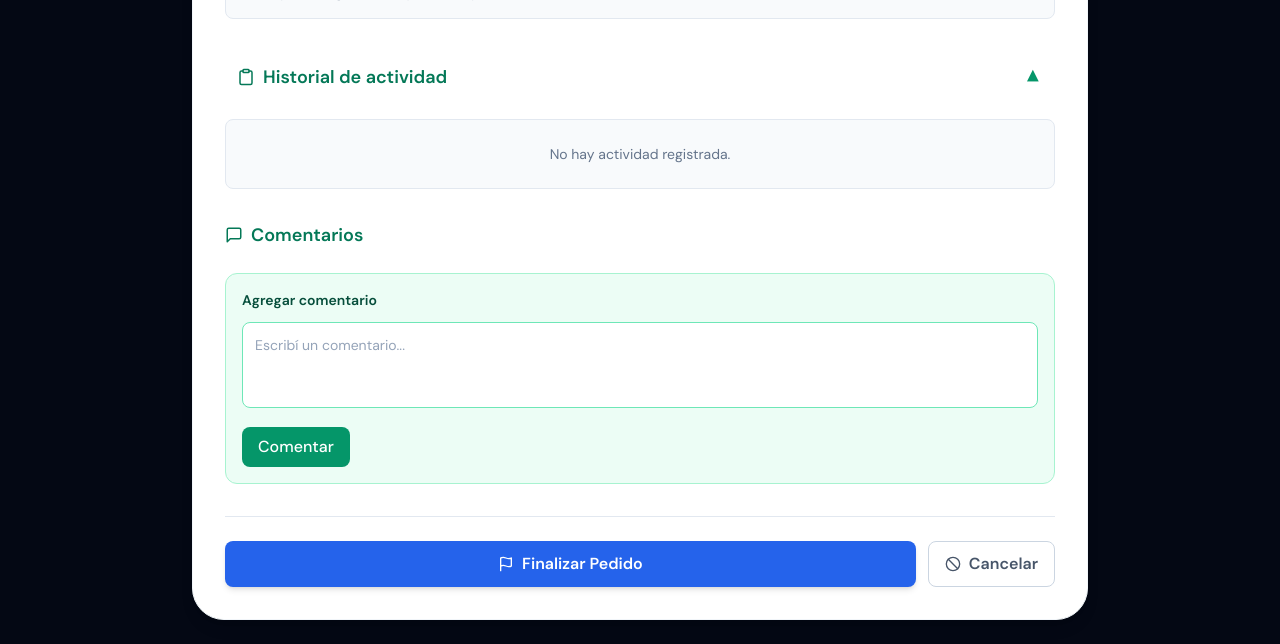
Test: PedidoDetalle — finalización con consumos[] › mapea el error de validación de Joi al input del item
This screenshot has width=1280, height=644.
(page scrolled)
Click the button "Finalizar Pedido" at (570, 564), box [225,541,916,587]
(page scrolled)
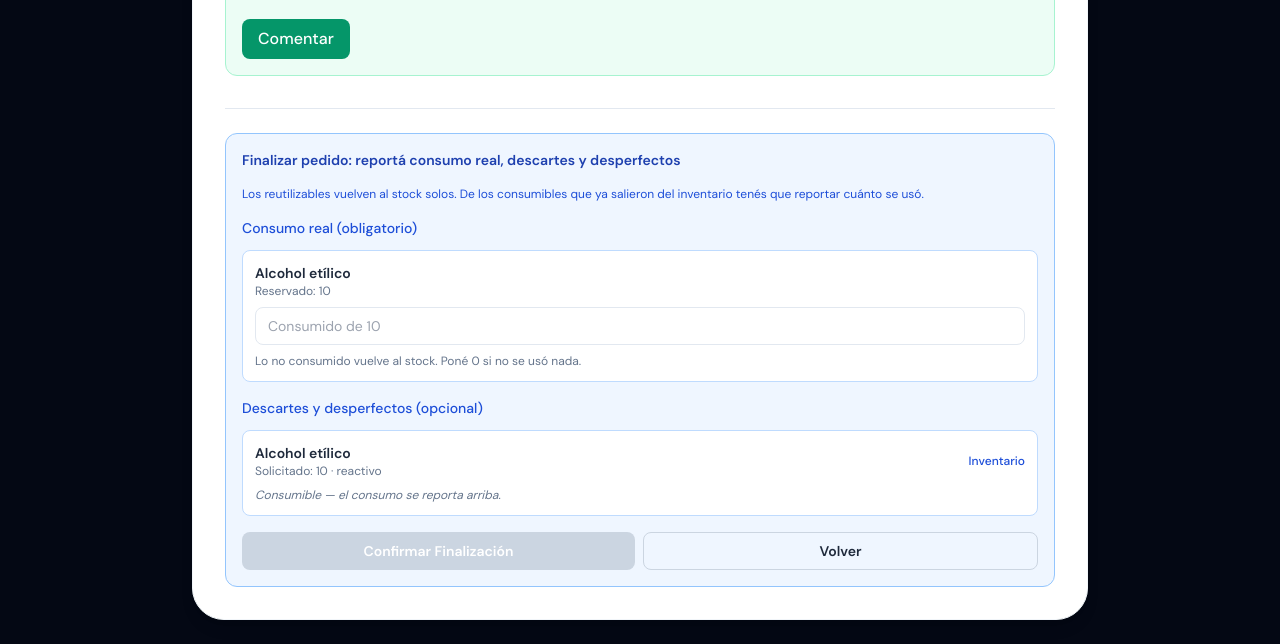
Type "4" into the number field named "Cantidad consumida de Alcohol etílico" at (640, 326), box [255,307,1025,345]
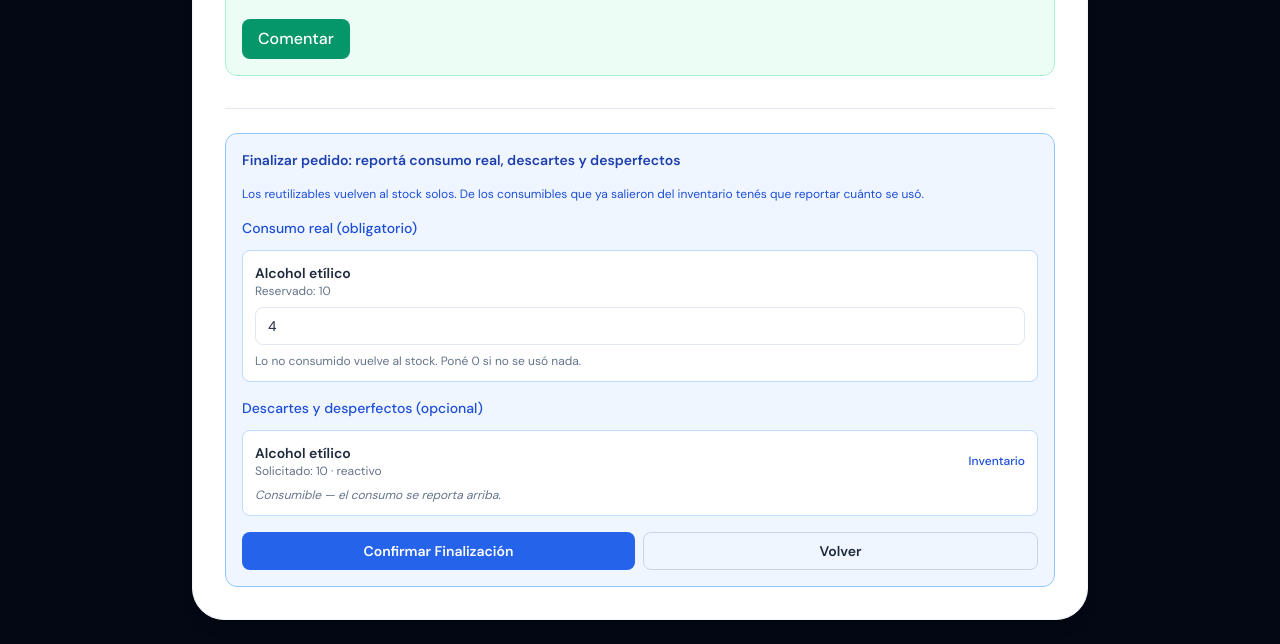
Click the button "Confirmar Finalización" at (438, 551), box [242,532,635,570]
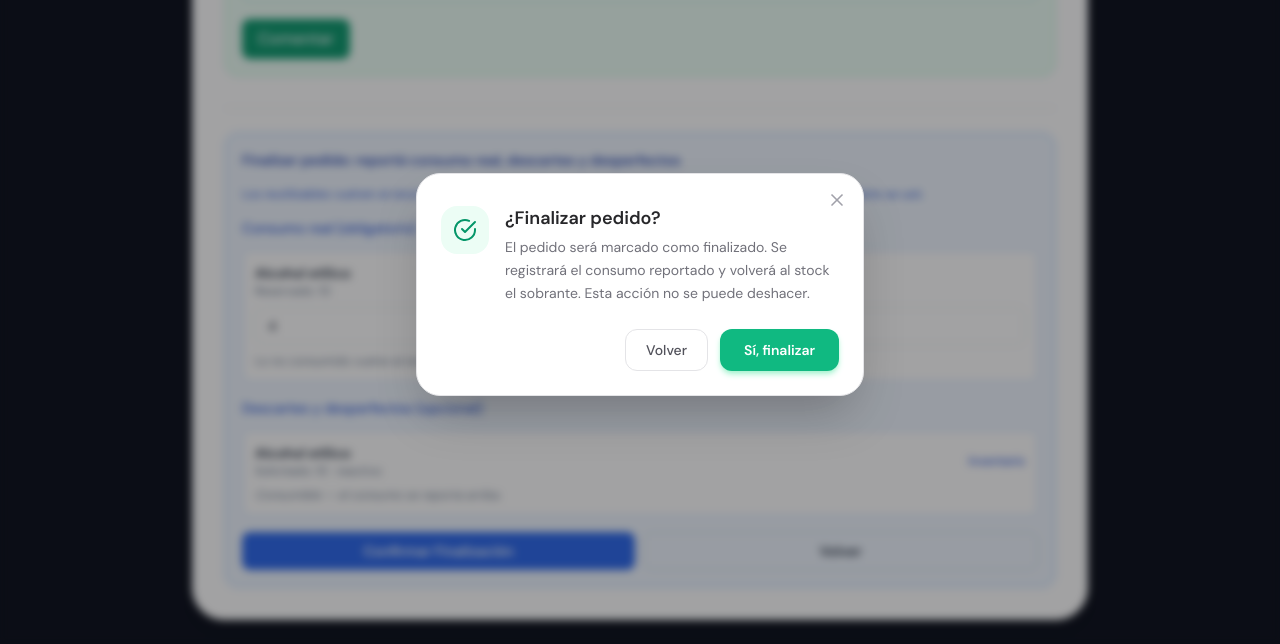
Click the button "Sí, finalizar" at (780, 350), box [720,328,839,370]
(page scrolled)
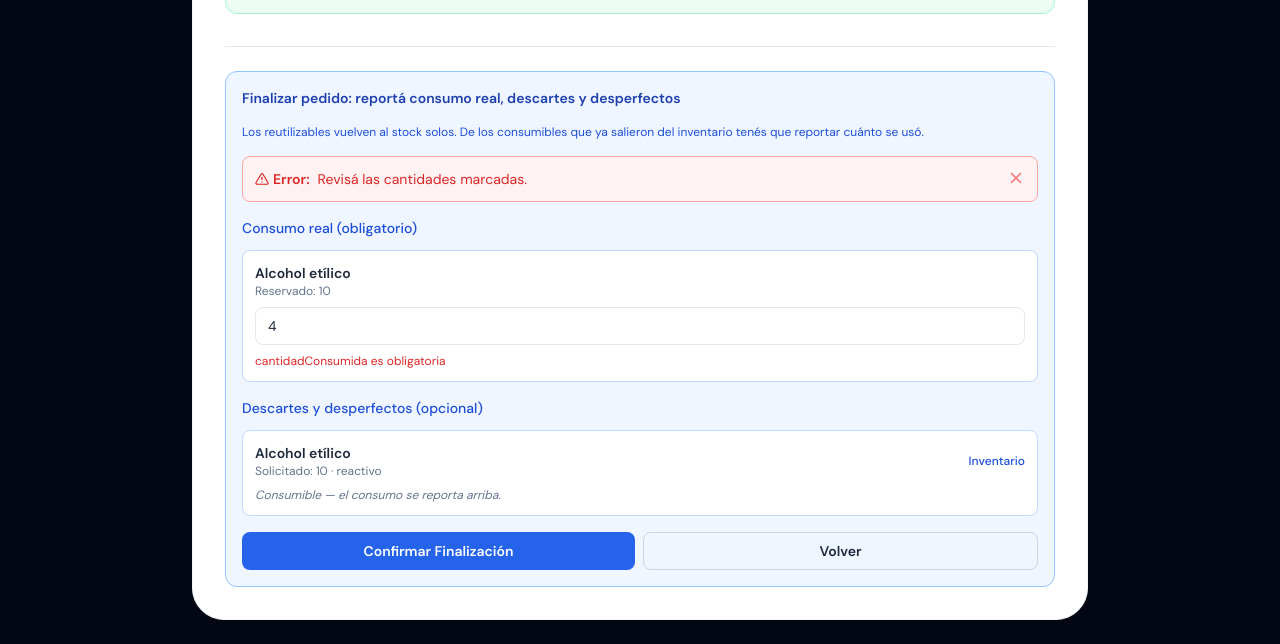
Now the text "cantidadConsumida es obligatoria" is shown, box [255,353,446,369]
